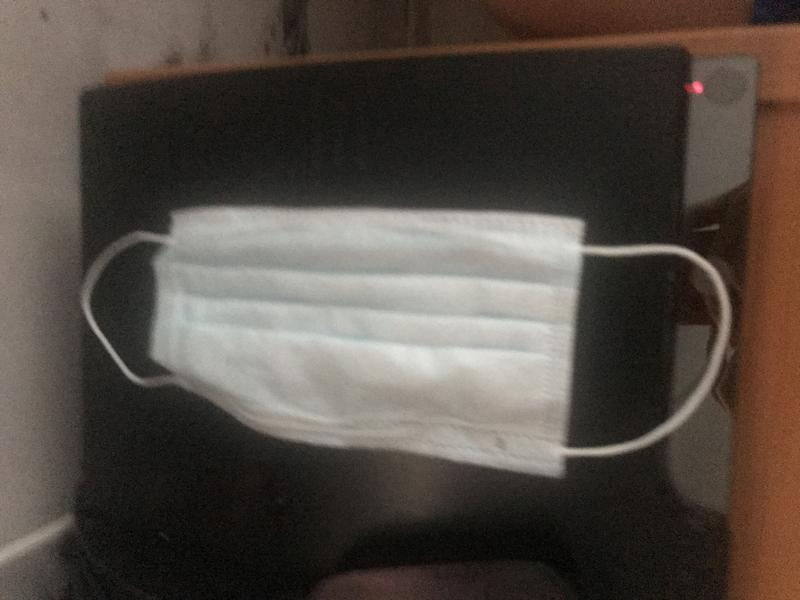medical_mask: (80, 206, 732, 461)
